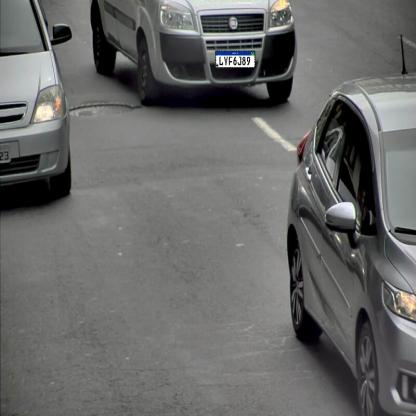PlacaM: (216, 51, 256, 68)
